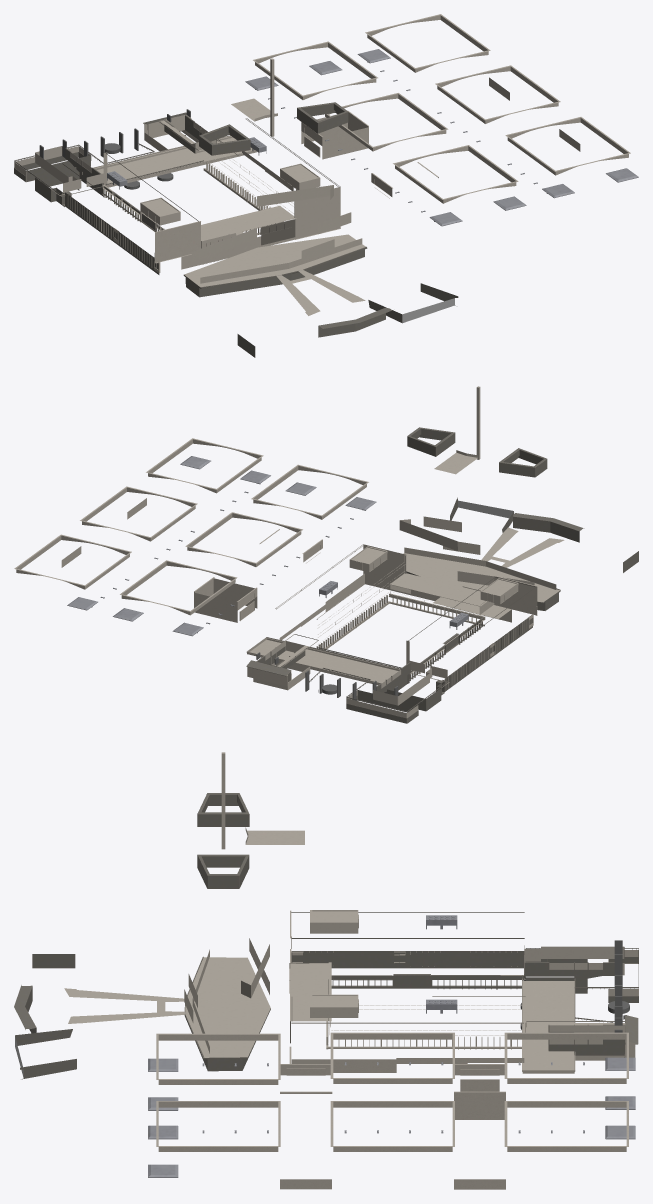
The model's file is accessory concrete.glb.
3 renders of one model, top to bottom at view 1: azimuth 30°, elevation 25°; view 2: azimuth 150°, elevation 25°; view 3: azimuth 270°, elevation 25°, orthographic. The views are drawn at different scales.
Parts seen in each view (by area): view 1: accessory concrete raw; view 2: accessory concrete raw; view 3: accessory concrete raw.
Boxes of the visible parts, <box> form: accessory concrete raw: <box>14,14,638,357</box>; accessory concrete raw: <box>14,386,638,723</box>; accessory concrete raw: <box>14,752,638,1189</box>.
Bounding box in the file's own units: 11.27 × 5.49 × 11.41.
Materials: 1 (1 with a texture image).
